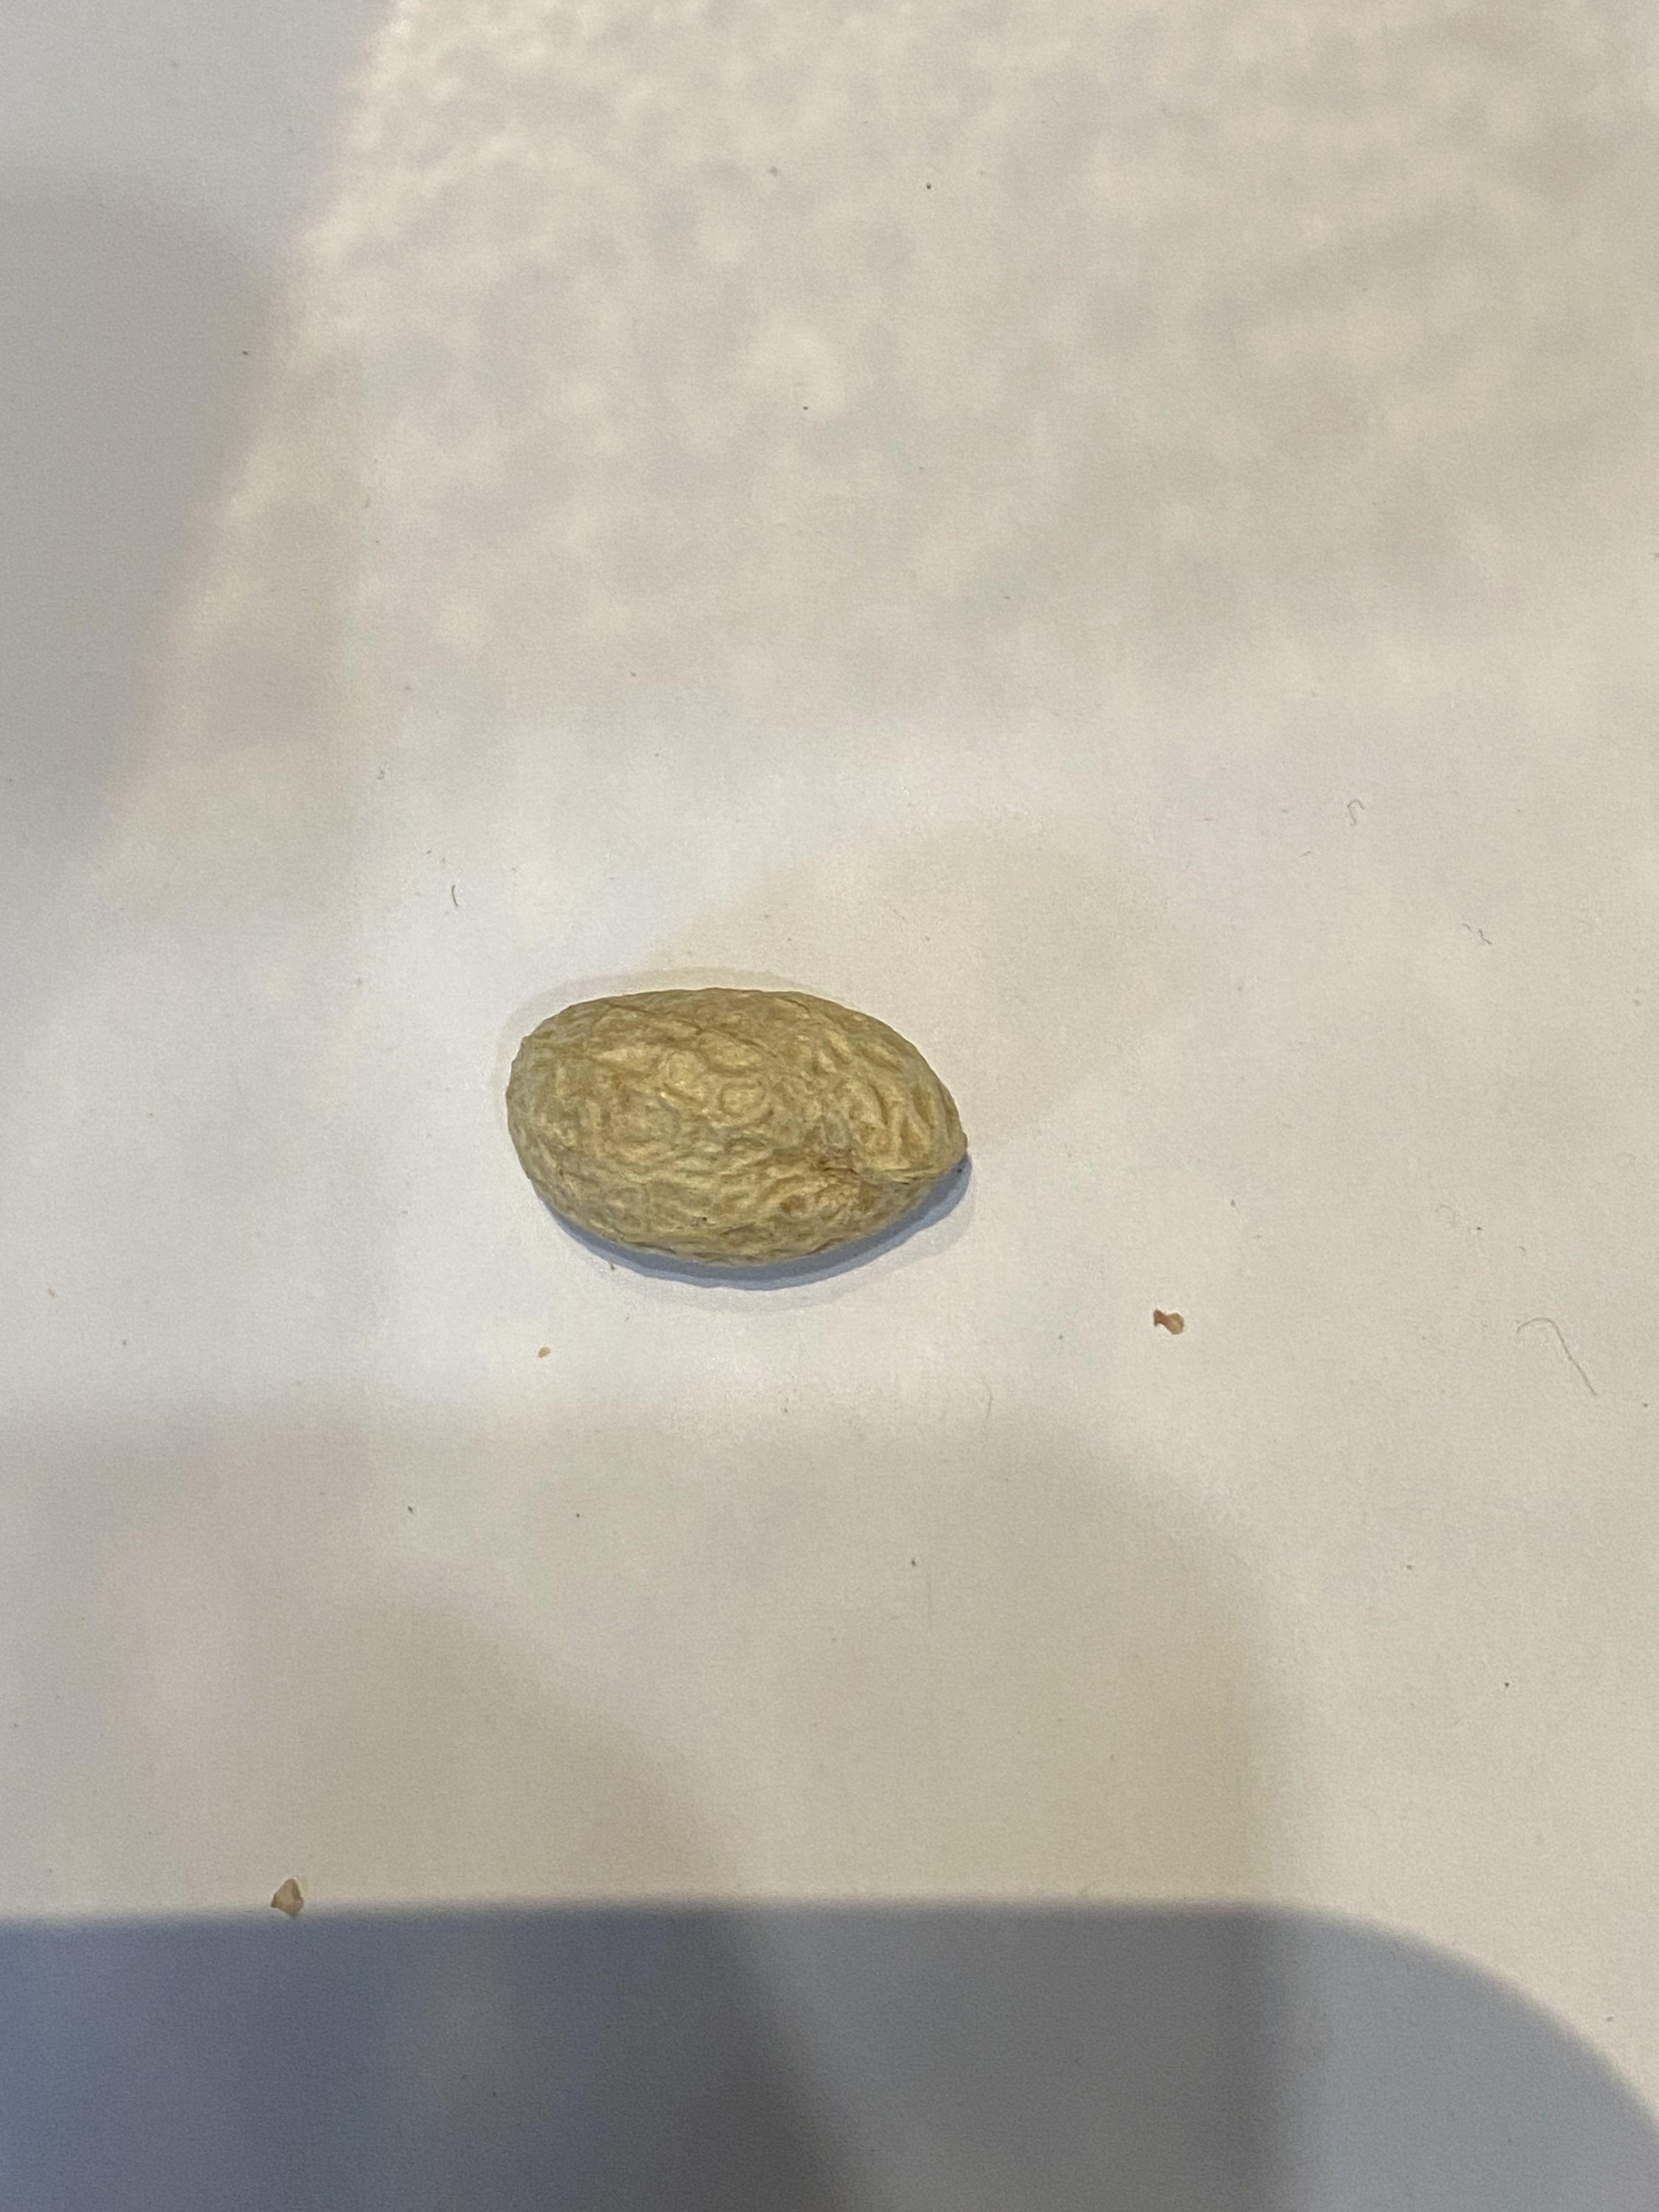kacang1: (453, 961, 992, 1284)
